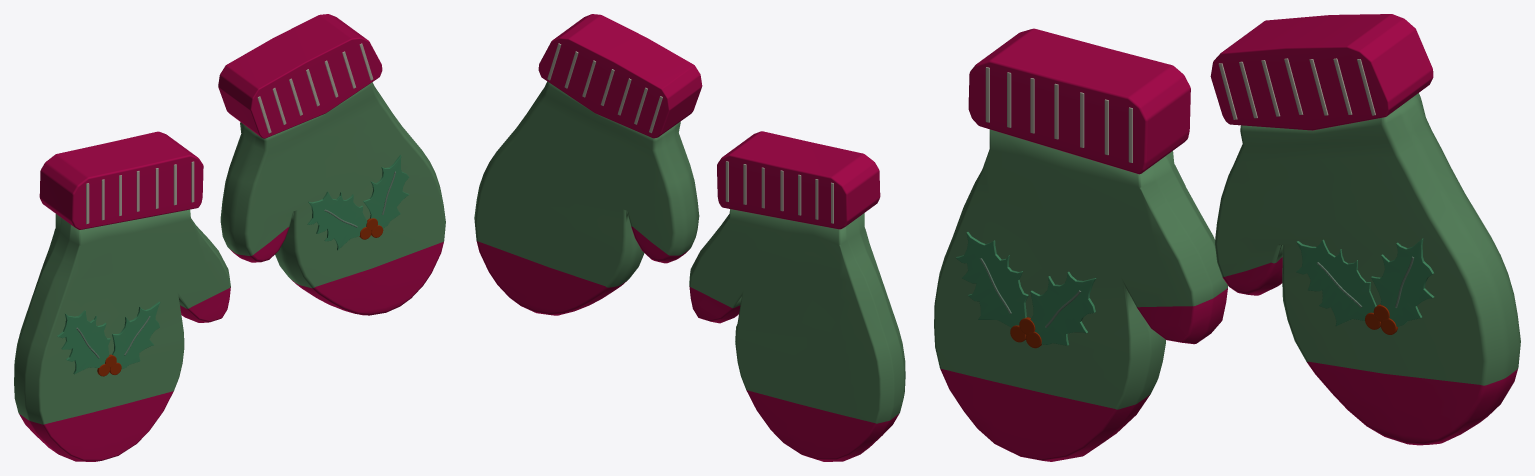
Rendered from Mitaine2.fbx.
3 renders of one model, left to right at view 1: azimuth 30°, elevation 25°; view 2: azimuth 150°, elevation 25°; view 3: azimuth 330°, elevation 25°, orthographic. The views are drawn at different scales.
Visible parts, largest first — view 1: pPlane8; view 2: pPlane8; view 3: pPlane8.
Boxes of the visible parts, bbox=[...] form: pPlane8: bbox=[14, 14, 445, 461]; pPlane8: bbox=[474, 14, 905, 461]; pPlane8: bbox=[934, 14, 1520, 461].
Bounding box in the file's own units: 1.42 × 1.2 × 0.201.
